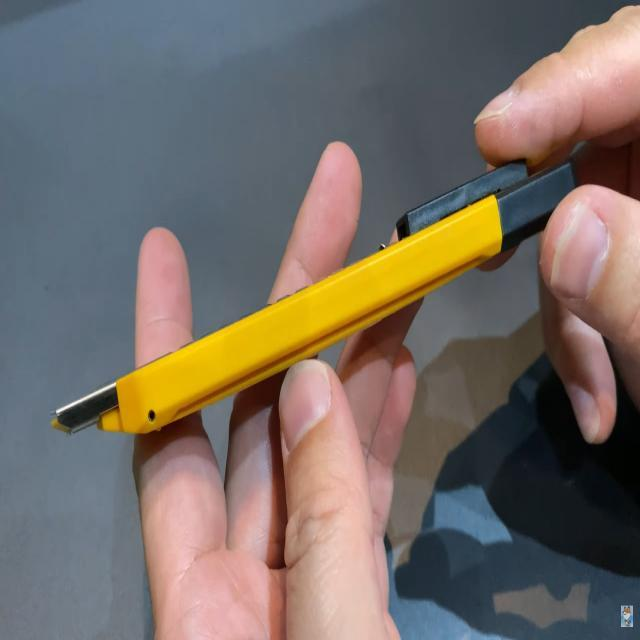cutter: (34, 142, 640, 480)
